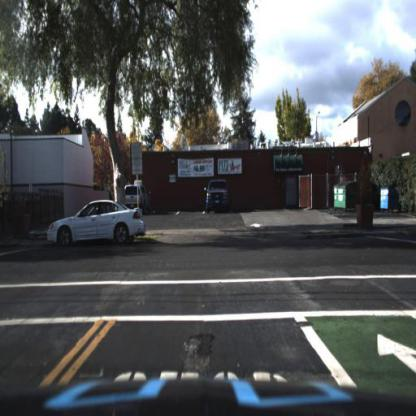car: (45, 188, 151, 260), (201, 174, 231, 215), (117, 182, 146, 206)
